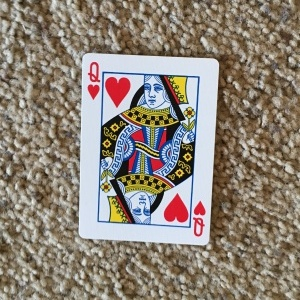card: (79, 53, 220, 247)
